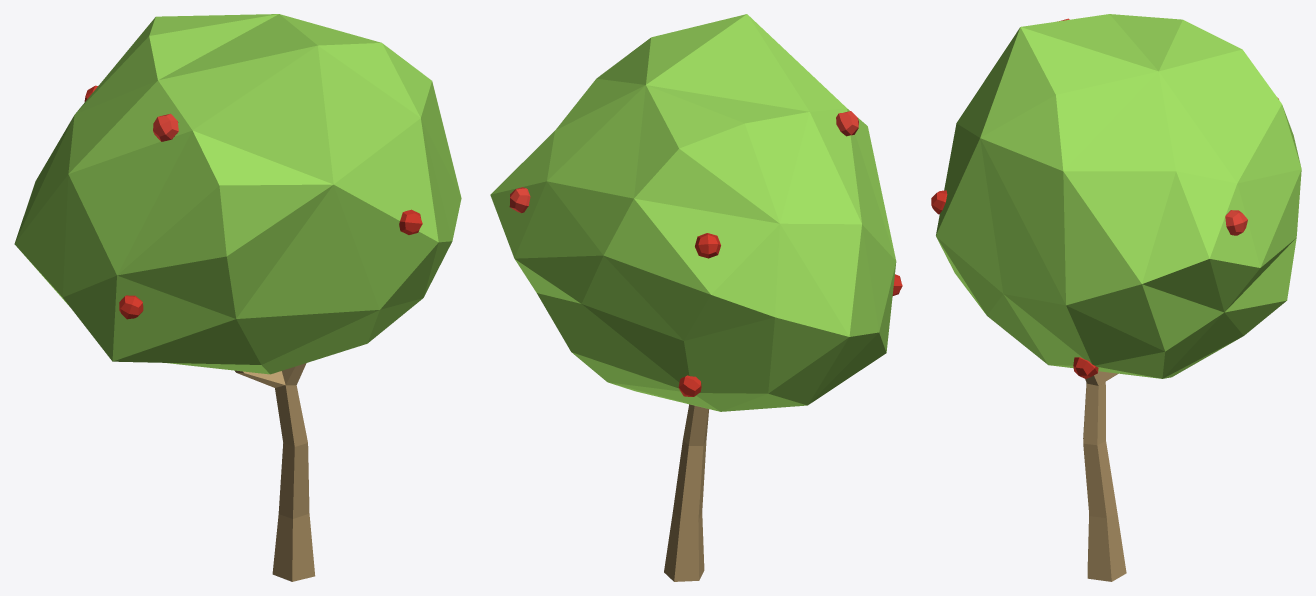
The model's file is Apple_Tree_Apples_m_BT_03.fbx.
The picture shows the model from 3 angles, left to right: view 1: azimuth 30°, elevation 25°; view 2: azimuth 150°, elevation 25°; view 3: azimuth 270°, elevation 25°; orthographic projection. The views are drawn at different scales.
Visible parts, largest first — view 1: Apple_Tree_Apples_m_BT_03; view 2: Apple_Tree_Apples_m_BT_03; view 3: Apple_Tree_Apples_m_BT_03.
Boxes of the visible parts, box(x1,y1,x2,y2) form: Apple_Tree_Apples_m_BT_03: box(14, 14, 461, 581); Apple_Tree_Apples_m_BT_03: box(490, 14, 902, 581); Apple_Tree_Apples_m_BT_03: box(931, 14, 1301, 581).
Size of the model in its own units: 510 by 711 by 445.
